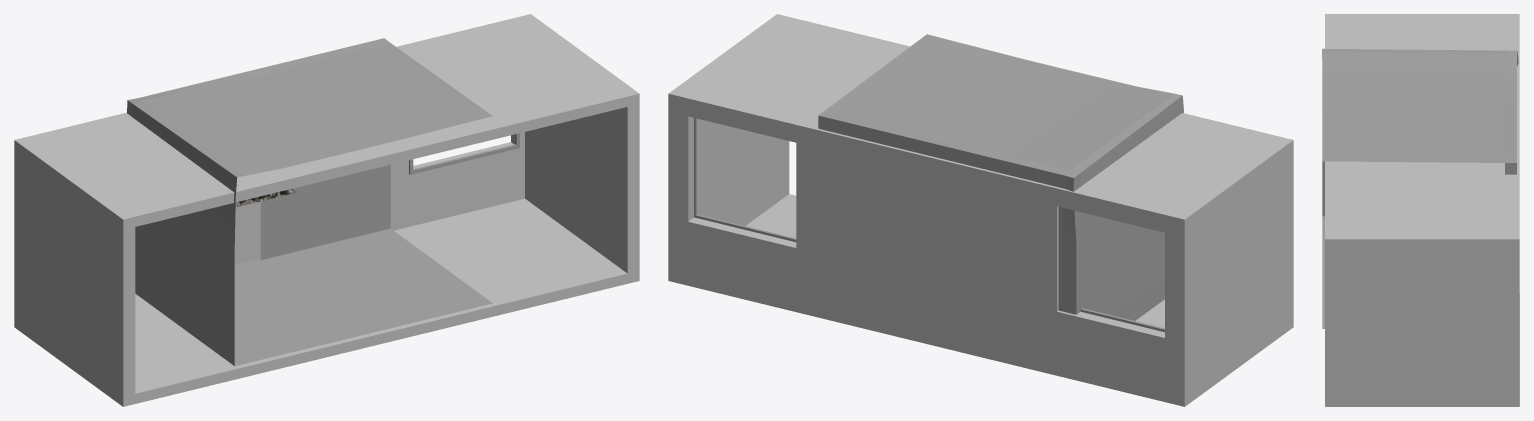
File: Inside_house_mesh (1).fbx
3 views of the same model, side by side, from view 1: azimuth 30°, elevation 25°; view 2: azimuth 150°, elevation 25°; view 3: azimuth 270°, elevation 25° (orthographic). The views are drawn at different scales.
Visible parts, largest first — view 1: pCube2, pCube1, pasted__polySurface2; view 2: pCube2, pCube1, pasted__polySurface2; view 3: pCube2, pCube1.
Boxes of the visible parts, left/top/right/bottom form: pCube2: left=14, top=14, right=639, bottom=406; pCube1: left=127, top=38, right=492, bottom=366; pasted__polySurface2: left=409, top=133, right=519, bottom=174; pCube2: left=668, top=14, right=1293, bottom=406; pCube1: left=818, top=34, right=1183, bottom=320; pasted__polySurface2: left=694, top=118, right=796, bottom=242; pCube2: left=1325, top=14, right=1519, bottom=406; pCube1: left=1322, top=48, right=1518, bottom=328.
Size of the model in its own units: 27.95 by 10.51 by 10.37.
